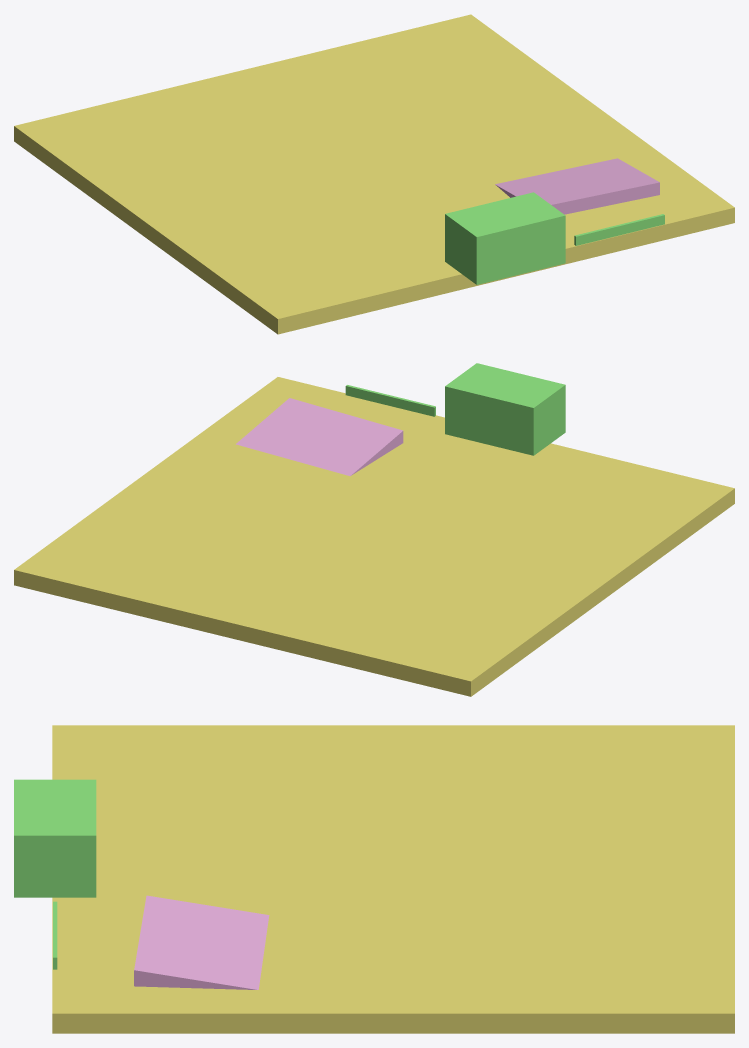
Rendered from prac_stage2.fbx.
3 views of the same model, one above another, from view 1: azimuth 30°, elevation 25°; view 2: azimuth 150°, elevation 25°; view 3: azimuth 270°, elevation 25° (orthographic). The views are drawn at different scales.
Parts seen in each view (by area): view 1: 立方体, 立方体.001, 立方体.002, 立方体.003; view 2: 立方体, 立方体.001, 立方体.002, 立方体.003; view 3: 立方体, 立方体.002, 立方体.001.
Boxes of the visible parts, x1,y1,x2,y2 form: 立方体: [14, 14, 734, 334]; 立方体.001: [445, 192, 565, 284]; 立方体.002: [495, 158, 659, 214]; 立方体.003: [574, 214, 664, 245]; 立方体: [14, 377, 734, 696]; 立方体.001: [445, 363, 565, 455]; 立方体.002: [236, 398, 403, 475]; 立方体.003: [345, 385, 435, 416]; 立方体: [52, 725, 734, 1033]; 立方体.002: [134, 895, 269, 989]; 立方体.001: [14, 779, 96, 897].
Bounding box in the file's own units: 1029 × 136 × 1087.
